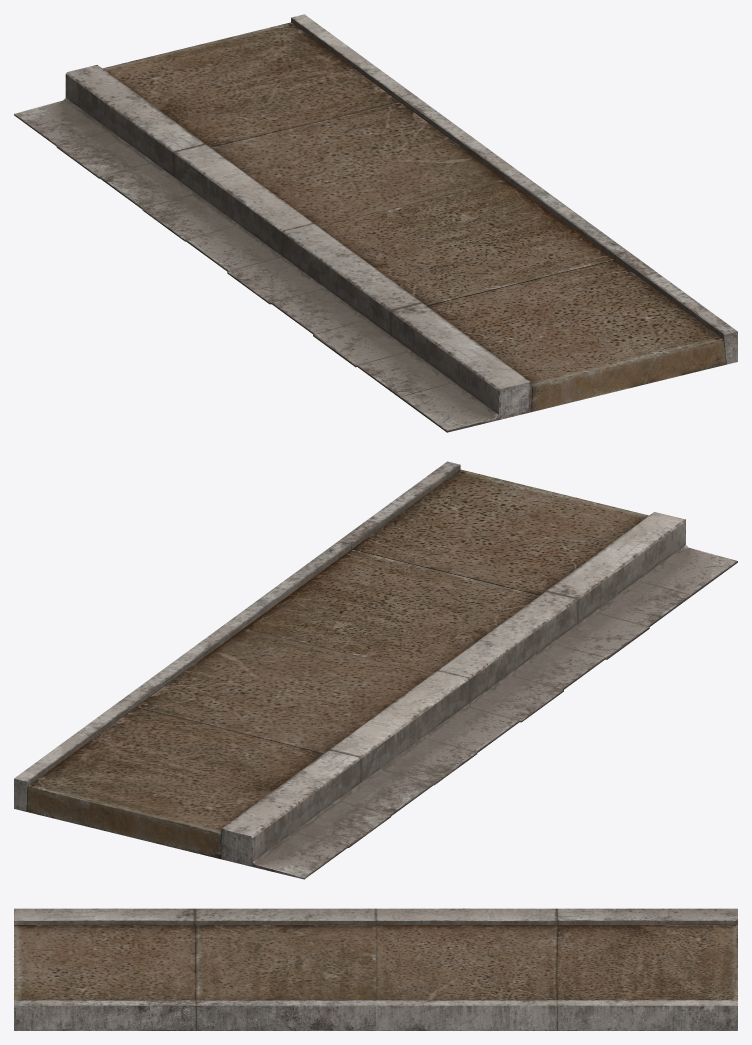
Rendered from SM_Sidewalk_01.fbx.
3 renders of one model, top to bottom at view 1: azimuth 30°, elevation 25°; view 2: azimuth 150°, elevation 25°; view 3: azimuth 270°, elevation 25°, orthographic. The views are drawn at different scales.
Visible parts, largest first — view 1: SM_Sidewalk_01; view 2: SM_Sidewalk_01; view 3: SM_Sidewalk_01.
Part boxes in pixels (x1,y1,x2,y2): SM_Sidewalk_01: (14,14,737,432); SM_Sidewalk_01: (14,461,737,879); SM_Sidewalk_01: (14,908,737,1030).
Bounding box in the file's own units: 214 × 550 × 21.3.
1 material, 1 textured.
